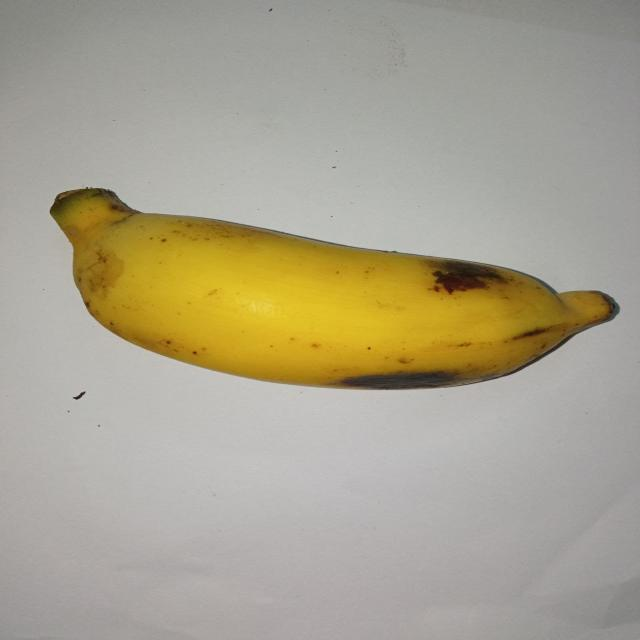fresh_banana: (50, 188, 619, 387)
